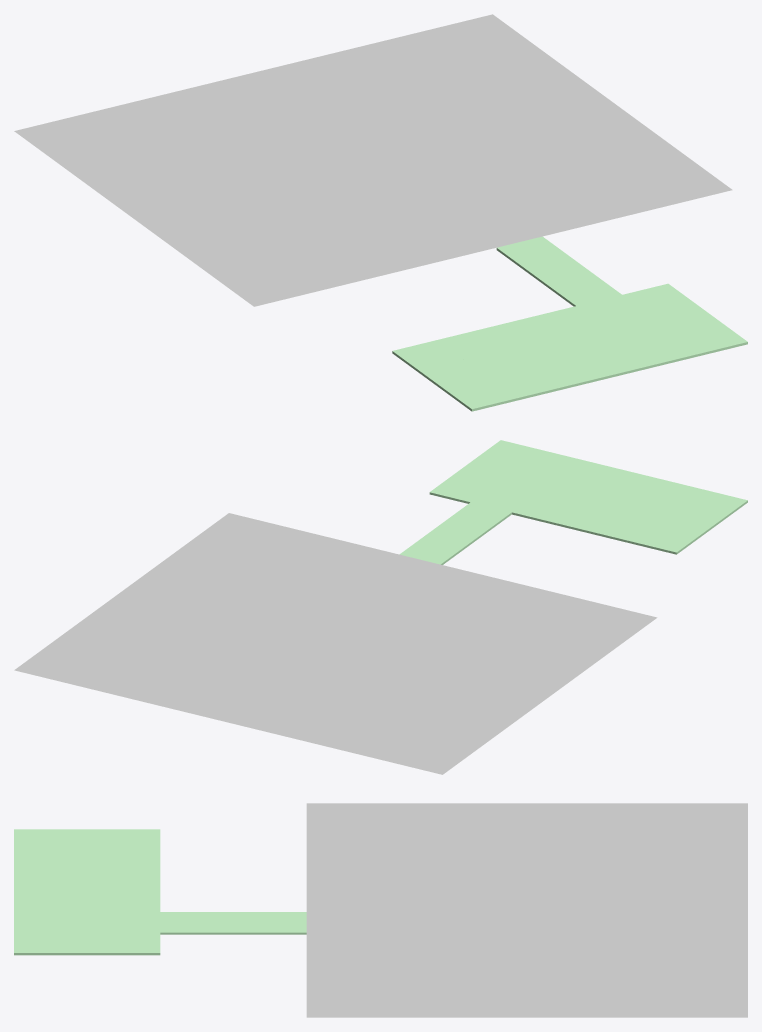
The model's file is Floor_House.fbx.
3 views of the same model, one above another, from view 1: azimuth 30°, elevation 25°; view 2: azimuth 150°, elevation 25°; view 3: azimuth 270°, elevation 25° (orthographic). The views are drawn at different scales.
Visible parts, largest first — view 1: Plane001, Floor2x004, Floor2x015, Floor2x007, Floor2x010, Floor2x014, Floor2x011, Floor2x021, Floor2x022, Floor2x2, Floor2x003, Floor2x020 (+10 smaller); view 2: Plane001, Floor2x2, Floor2x013, Floor2x005, Floor2x008, Floor2x018, Floor2x003, Floor2x004, Floor2x020, Floor2x021, Floor2x022, Floor2x006 (+10 smaller); view 3: Plane001, Floor2x017, Floor2x018, Floor2x014, Floor2x020, Floor2x021, Floor2x022, Floor2x012, Floor2x013, Floor2x011, Floor2x2, Floor2x003 (+10 smaller).
Boxes of the visible parts, x1,y1,x2,y2 form: Plane001: (14,14,732,306); Floor2x004: (445,378,517,411); Floor2x015: (630,333,701,366); Floor2x007: (492,367,563,400); Floor2x010: (583,345,655,377); Floor2x014: (676,322,747,355); Floor2x011: (538,356,609,388); Floor2x021: (523,256,595,288); Floor2x022: (496,236,568,269); Floor2x2: (392,340,464,372); Floor2x003: (419,359,490,391); Floor2x020: (549,275,621,306); Plane001: (14,513,657,774); Floor2x2: (635,525,700,554); Floor2x013: (553,505,617,534); Floor2x005: (594,515,658,544); Floor2x008: (512,495,576,524); Floor2x018: (429,475,493,503); Floor2x003: (659,507,724,536); Floor2x004: (683,490,747,519); Floor2x020: (447,502,511,531); Floor2x021: (423,520,487,548); Floor2x022: (399,537,464,564); Floor2x006: (618,497,682,524); Plane001: (306,803,747,1017); Floor2x017: (62,932,111,955); Floor2x018: (111,932,160,955); Floor2x014: (14,932,62,955); Floor2x020: (160,912,209,934); Floor2x021: (209,912,257,934); Floor2x022: (258,912,306,934); Floor2x012: (62,870,111,891); Floor2x013: (111,870,160,891); Floor2x011: (14,870,62,891); Floor2x2: (111,829,160,849); Floor2x003: (62,829,111,849).
Bounding box in the file's own units: 2081 × 10 × 3008.
